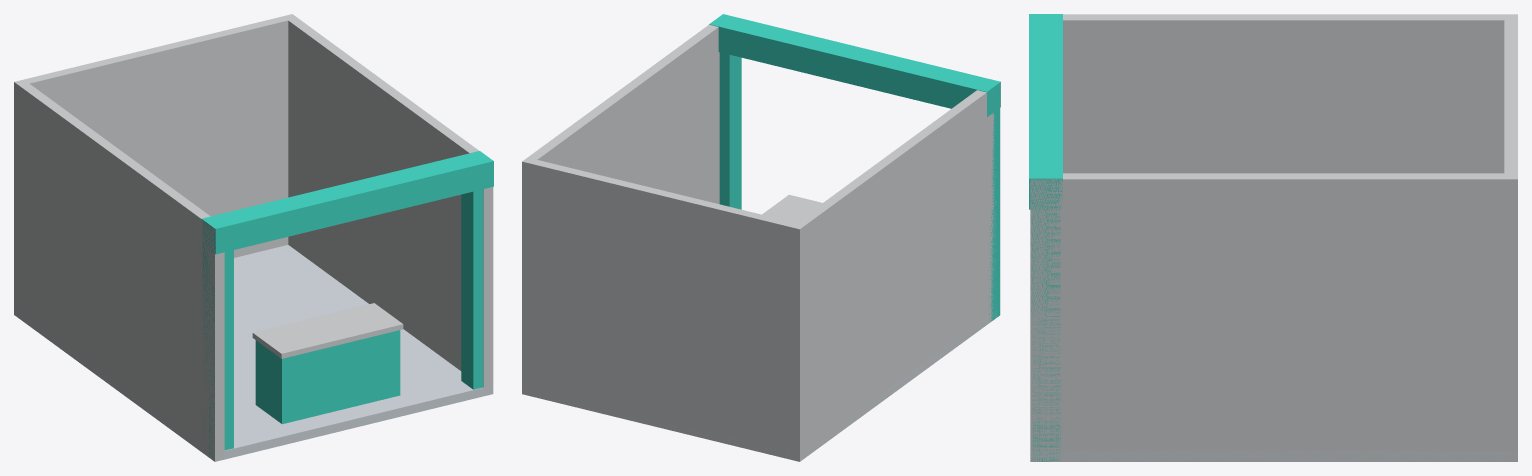
The picture shows the model from 3 angles, left to right: view 1: azimuth 30°, elevation 25°; view 2: azimuth 150°, elevation 25°; view 3: azimuth 270°, elevation 25°; orthographic projection. The views are drawn at different scales.
Parts seen in each view (by area): view 1: Exhibition Booth Concept; view 2: Exhibition Booth Concept; view 3: Exhibition Booth Concept.
Part boxes in pixels (x1,y1,x2,y2): Exhibition Booth Concept: (14, 14, 493, 461); Exhibition Booth Concept: (522, 14, 1000, 461); Exhibition Booth Concept: (1029, 14, 1517, 461).
Bounding box in the file's own units: 4 × 3.2 × 5.02.
